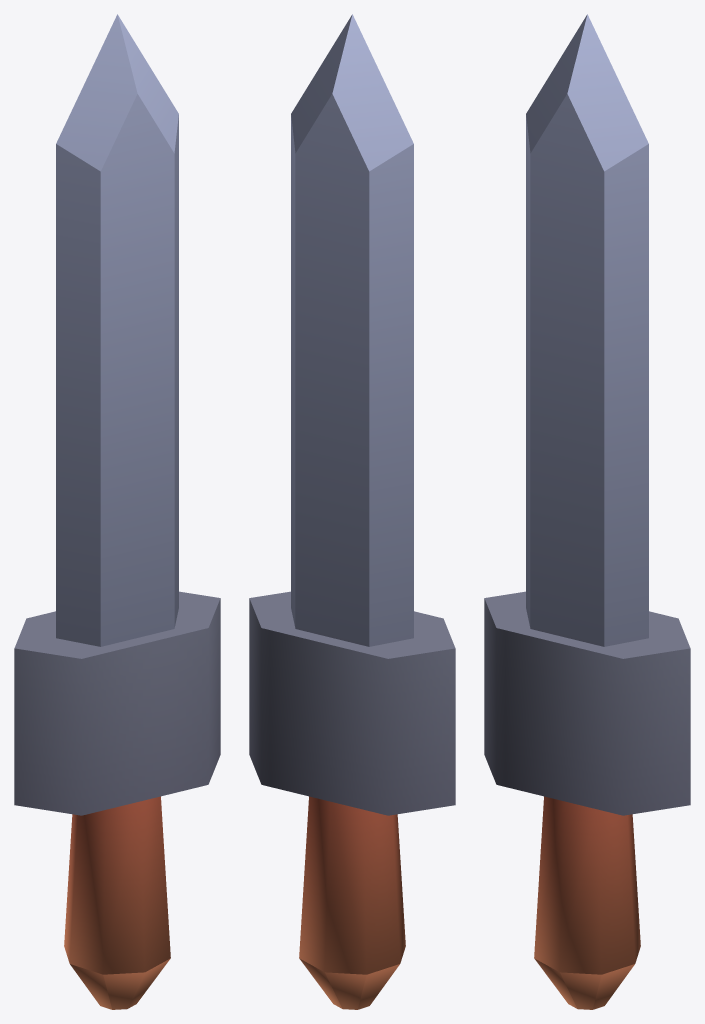
File: greatsword.glb
The picture shows the model from 3 angles, left to right: view 1: azimuth 30°, elevation 25°; view 2: azimuth 150°, elevation 25°; view 3: azimuth 330°, elevation 25°; orthographic projection.
Parts seen in each view (by area): view 1: greatsword; view 2: greatsword; view 3: greatsword.
Part boxes in pixels (left/top/right/bottom): greatsword: left=14, top=14, right=220, bottom=1009; greatsword: left=249, top=14, right=455, bottom=1009; greatsword: left=484, top=14, right=690, bottom=1009.
Bounding box in the file's own units: 0.2184 × 1 × 0.1014.
1 material, 1 textured.
